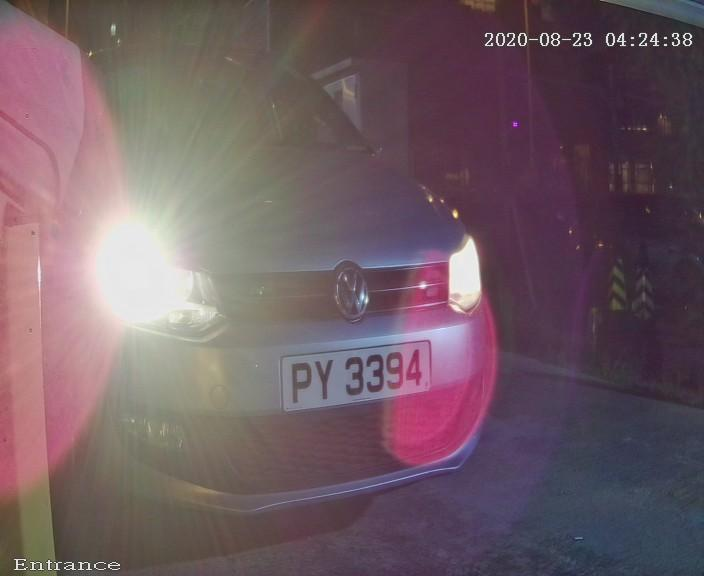Car: (4, 29, 566, 556)
License Plate: (242, 307, 445, 441)
